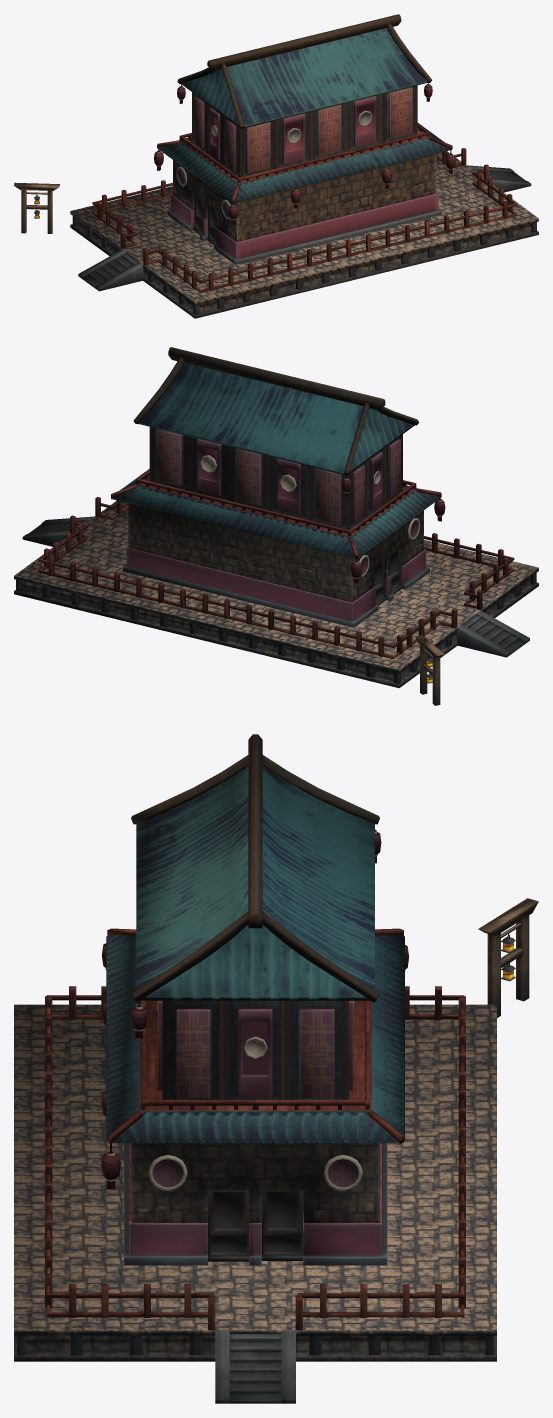
File: Chinese house.fbx
3 renders of one model, top to bottom at view 1: azimuth 30°, elevation 25°; view 2: azimuth 150°, elevation 25°; view 3: azimuth 270°, elevation 25°, orthographic. The views are drawn at different scales.
Visible parts, largest first — view 1: Base_low, Wall, Arch_low; view 2: Base_low, Arch_low, Door_Entry; view 3: Base_low, Arch_low, Door_Extit.
Part boxes in pixels (x1,y1,x2,y2): Base_low: (70,14,538,318); Wall: (239,154,434,257); Arch_low: (14,182,59,233); Base_low: (14,347,538,687); Arch_low: (415,635,444,705); Door_Entry: (390,549,401,593); Base_low: (14,734,496,1403); Arch_low: (478,898,538,1017); Door_Extit: (208,1190,248,1261).
Size of the model in its own units: 2914 by 1233 by 1566.
